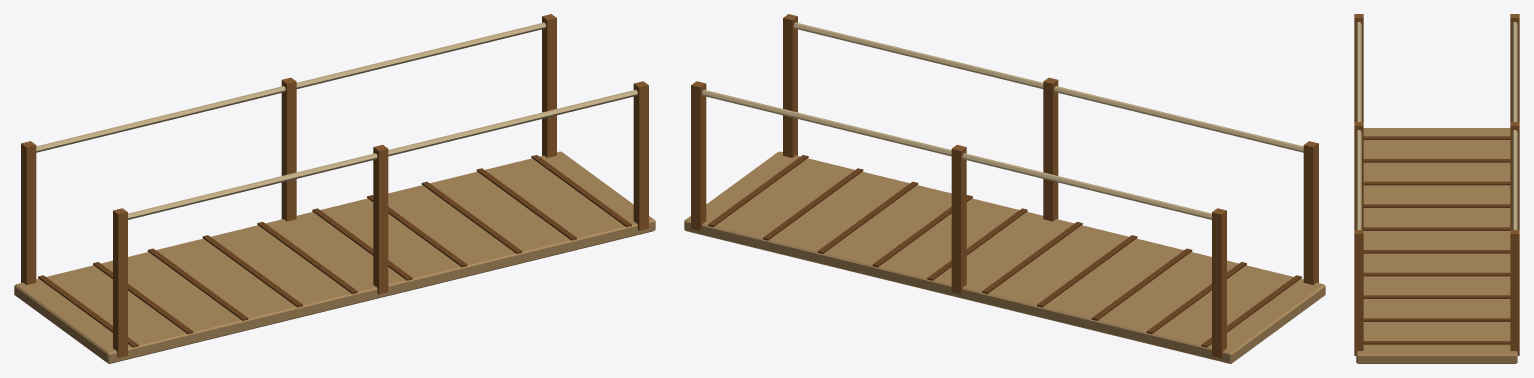
Rendered from bridge_4m.glb.
3 views of the same model, side by side, from view 1: azimuth 30°, elevation 25°; view 2: azimuth 150°, elevation 25°; view 3: azimuth 270°, elevation 25° (orthographic). The views are drawn at different scales.
Visible parts, largest first — view 1: bridge_4m; view 2: bridge_4m; view 3: bridge_4m.
Part boxes in pixels (bbox=[...]): bridge_4m: bbox=[14, 14, 655, 363]; bridge_4m: bbox=[684, 14, 1325, 363]; bridge_4m: bbox=[1354, 14, 1519, 363].
Size of the model in its own units: 4 by 1.04 by 1.23.
